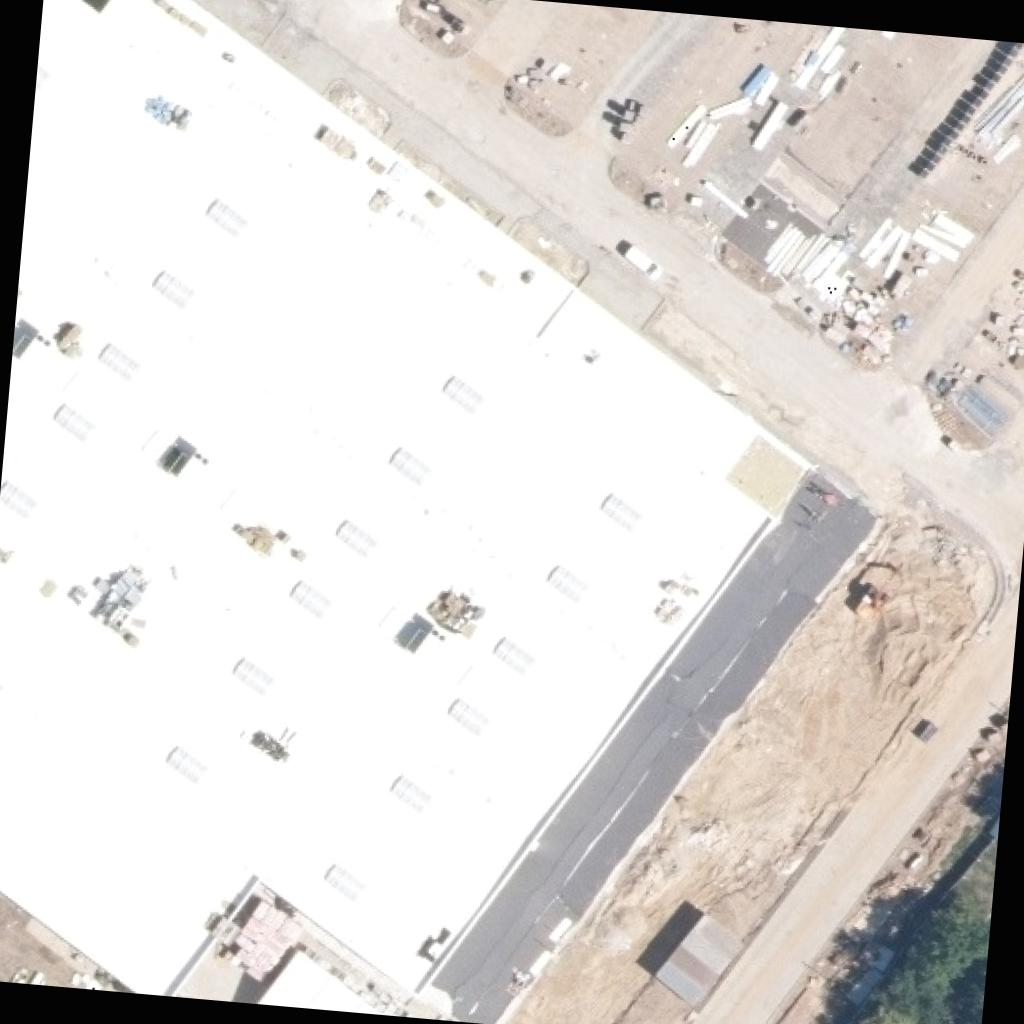koparka: (848, 554, 911, 629)
